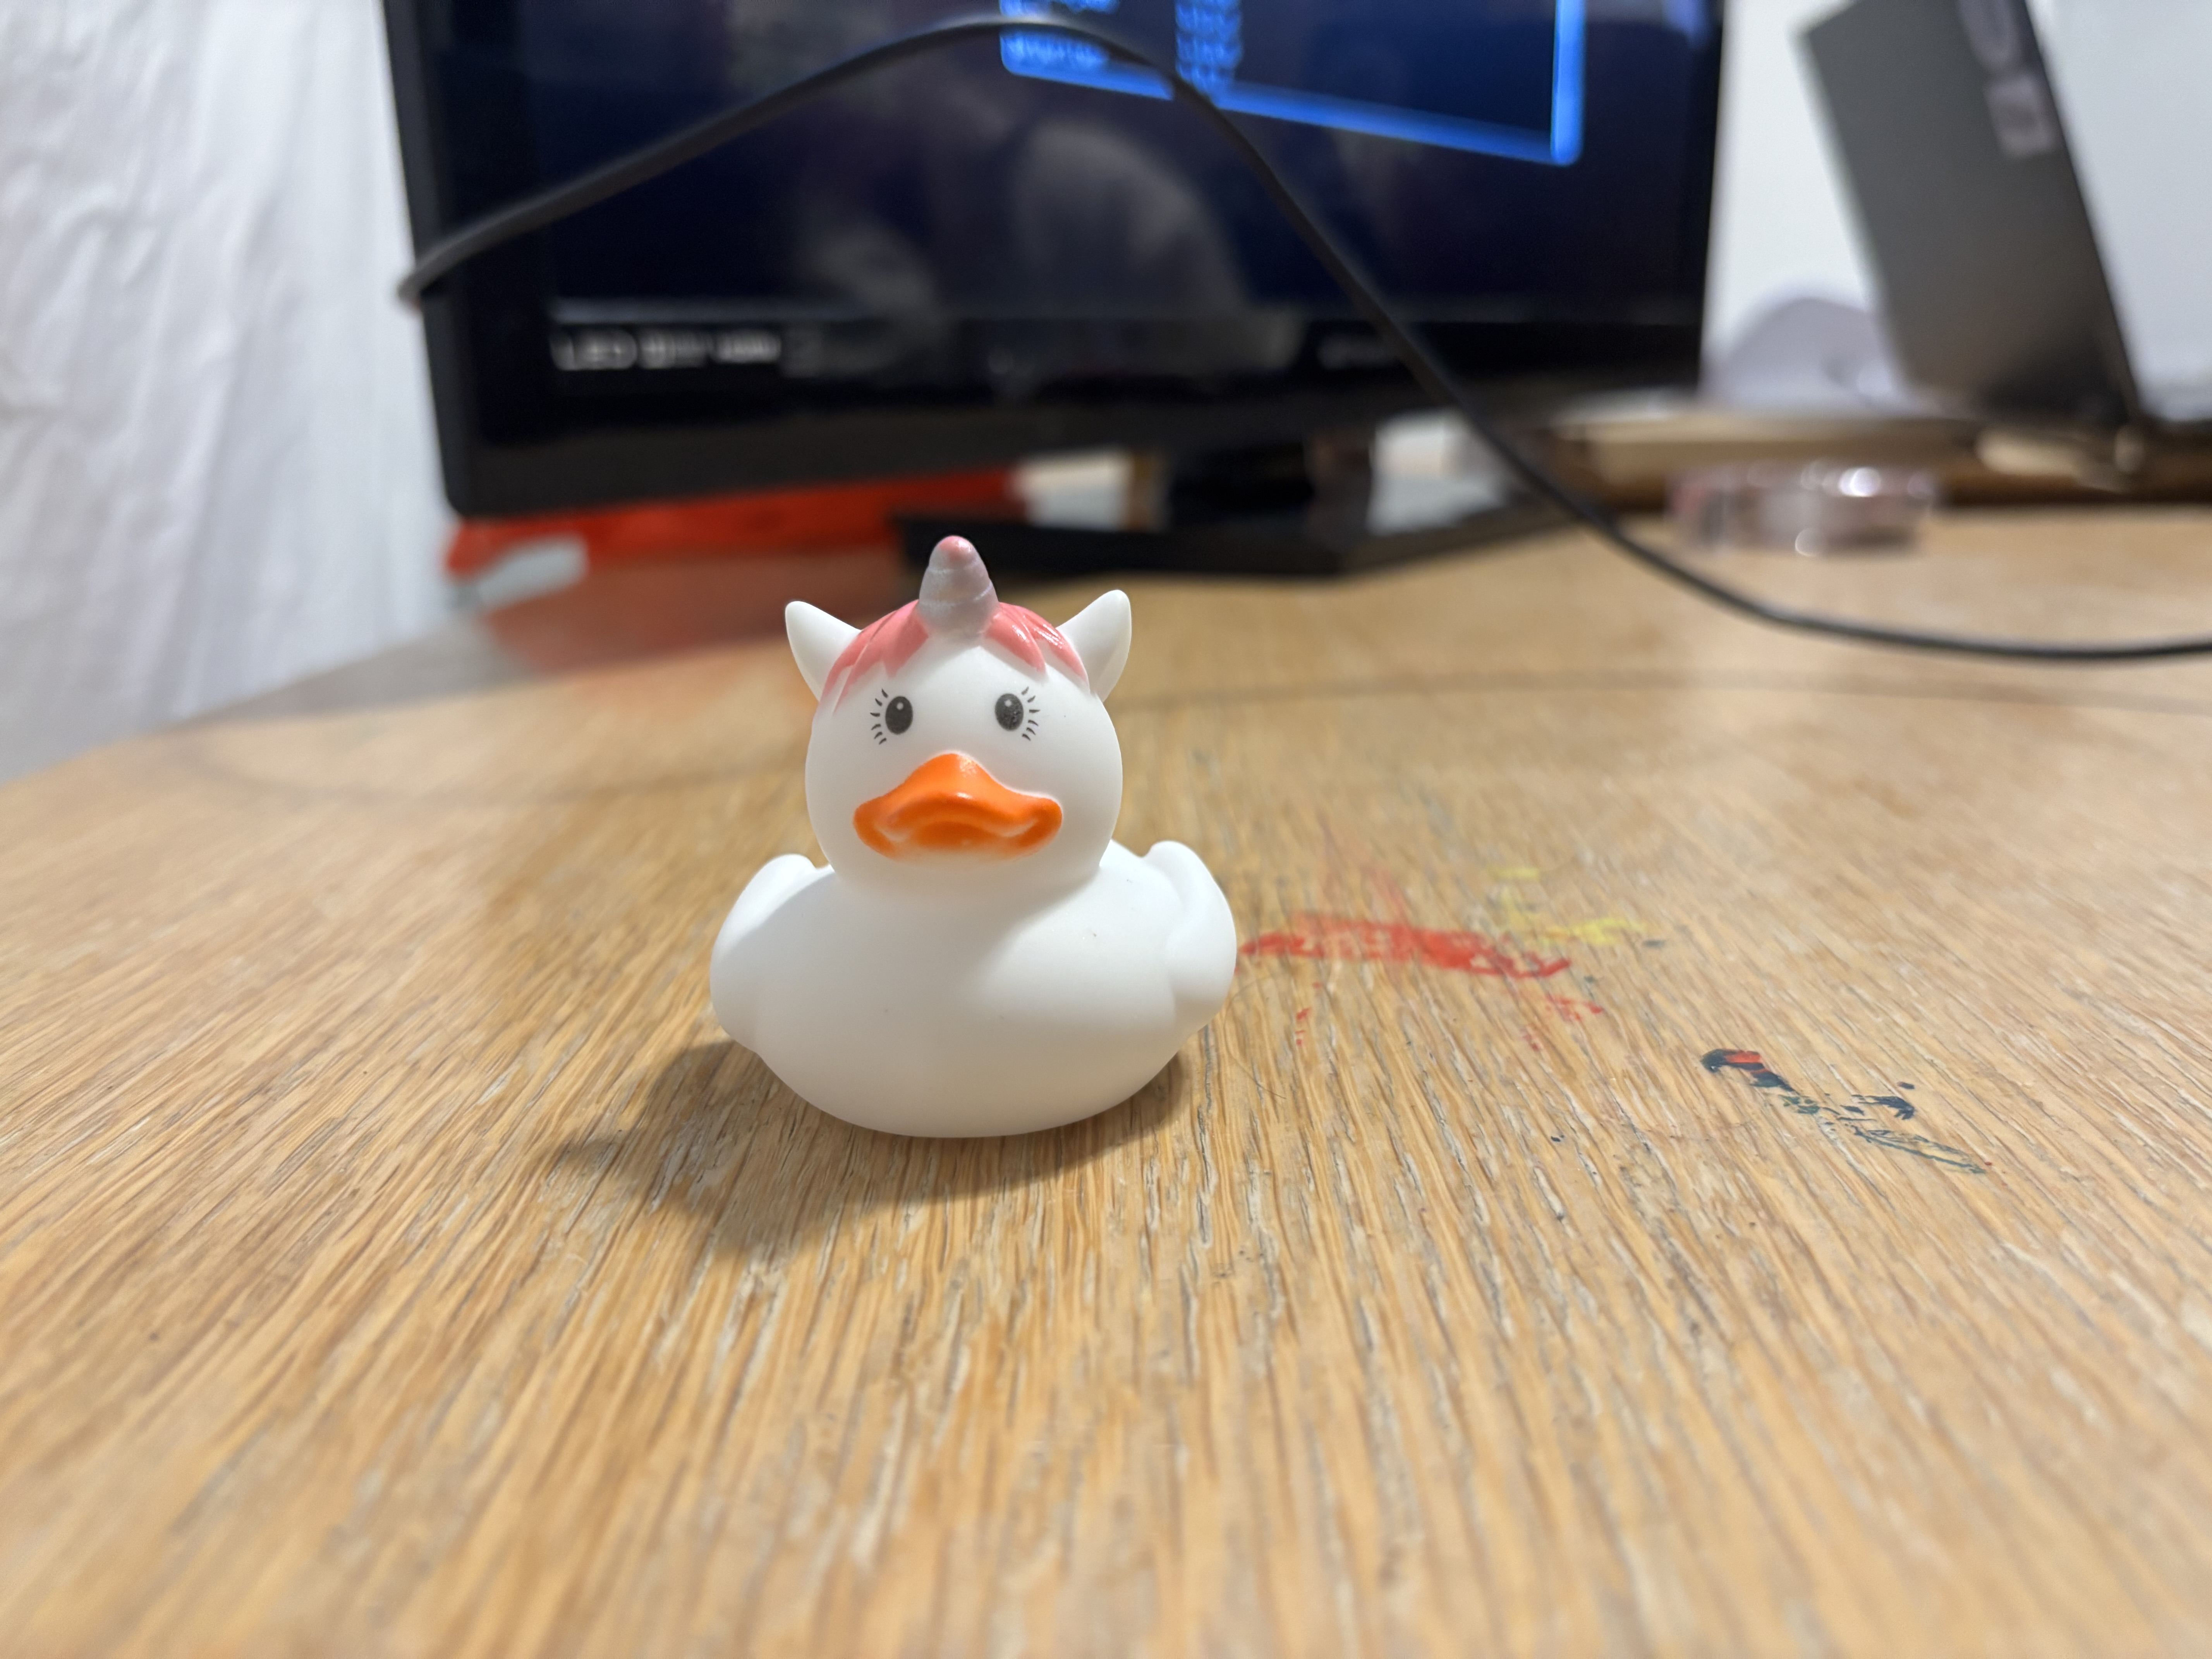Ducks (Specialty): (624, 544, 1256, 1126)
